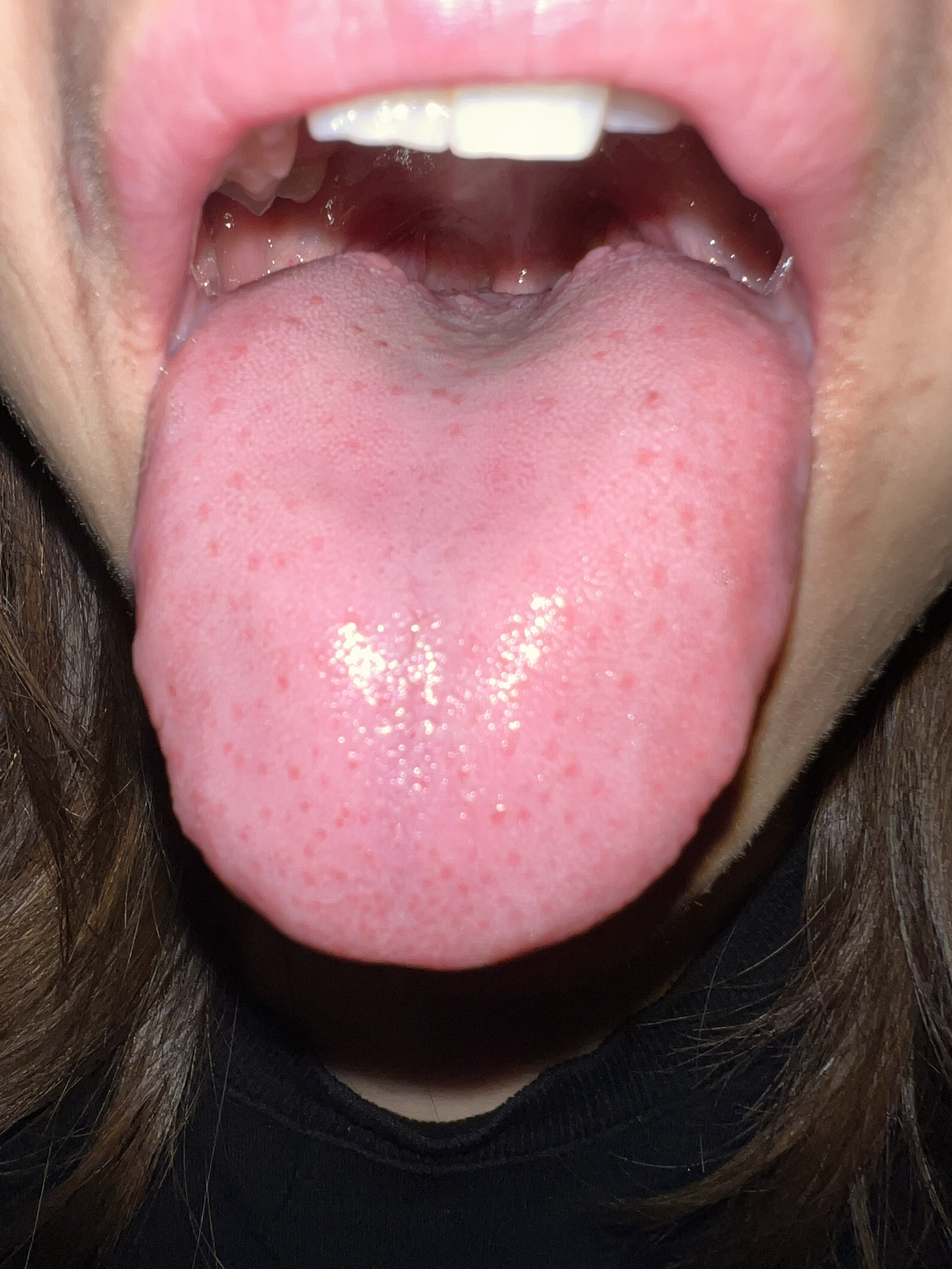baitaishe: (132, 249, 814, 972)
hongdianshe: (270, 667, 293, 696), (486, 799, 508, 827), (641, 381, 662, 409), (370, 334, 390, 355), (290, 794, 311, 814)
pangdashe: (131, 248, 814, 971)
shenquao: (297, 251, 679, 386)
